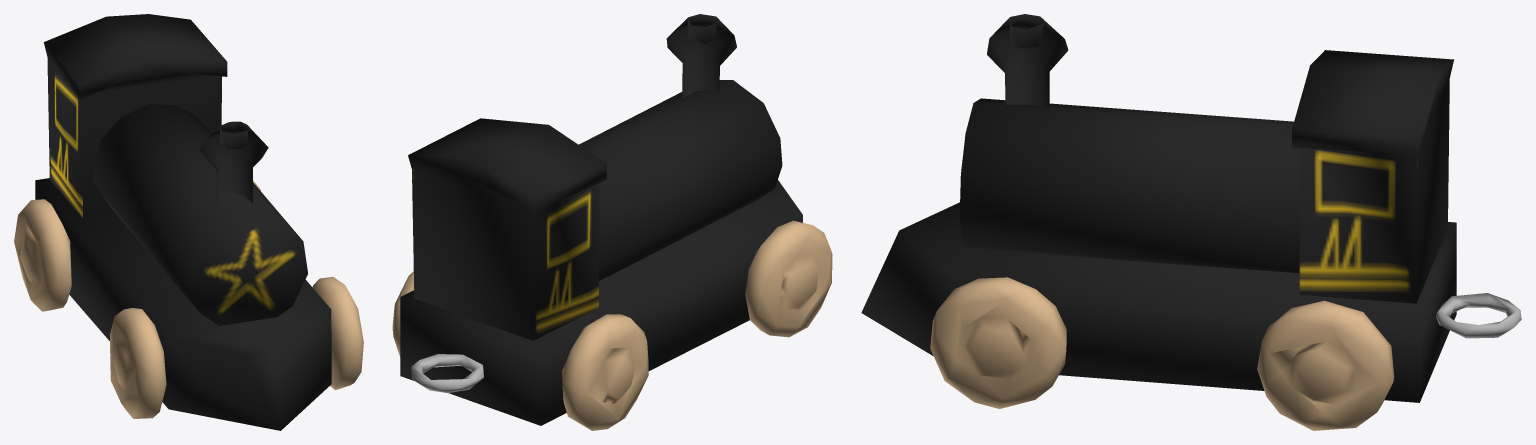
The model's file is nero.fbx.
3 renders of one model, left to right at view 1: azimuth 30°, elevation 25°; view 2: azimuth 150°, elevation 25°; view 3: azimuth 270°, elevation 25°, orthographic. The views are drawn at different scales.
Parts seen in each view (by area): view 1: inizio; view 2: inizio; view 3: inizio.
Boxes of the visible parts, box(x1,y1,x2,y2) form: inizio: box(14, 14, 363, 430); inizio: box(392, 14, 832, 430); inizio: box(861, 14, 1521, 430).
Bounding box in the file's own units: 342 × 342 × 616.
1 material, 1 textured.
